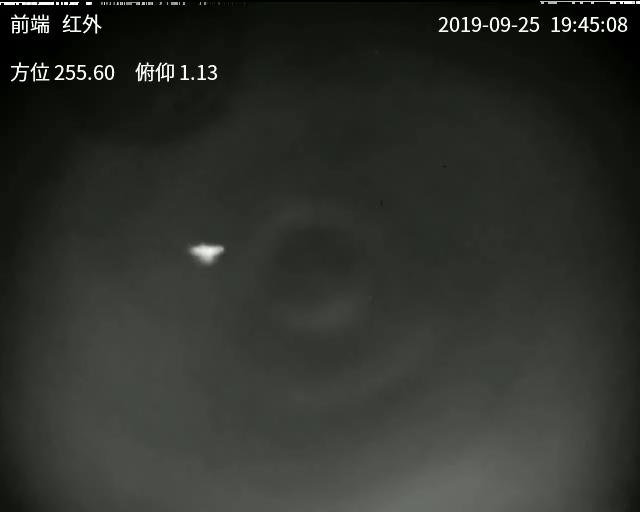uav: (185, 238, 229, 264)
